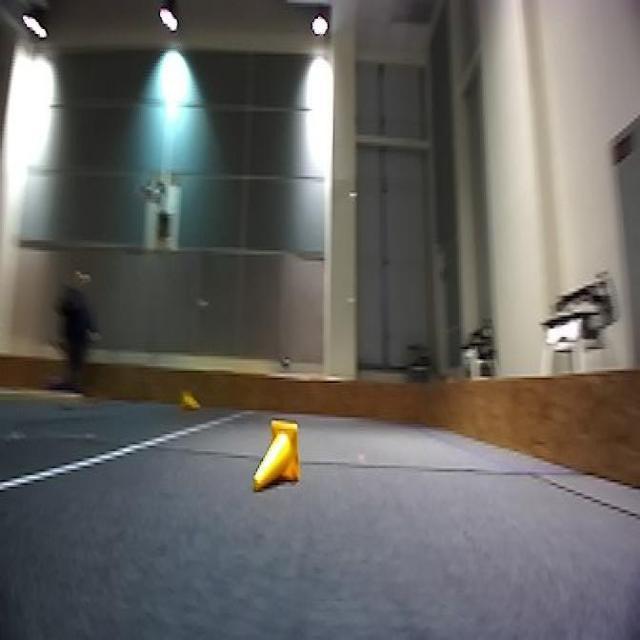frc_cone: (250, 419, 300, 495), (177, 384, 205, 414)
